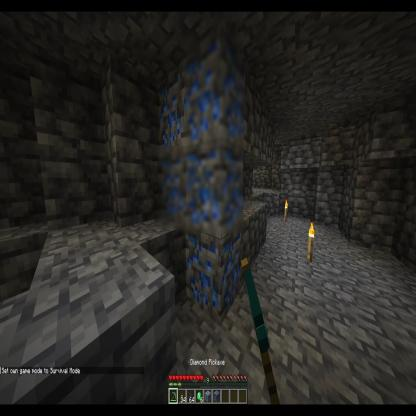lapis ore: (180, 32, 244, 148), (184, 225, 245, 328), (181, 140, 243, 234), (159, 146, 186, 230), (160, 72, 186, 154)
